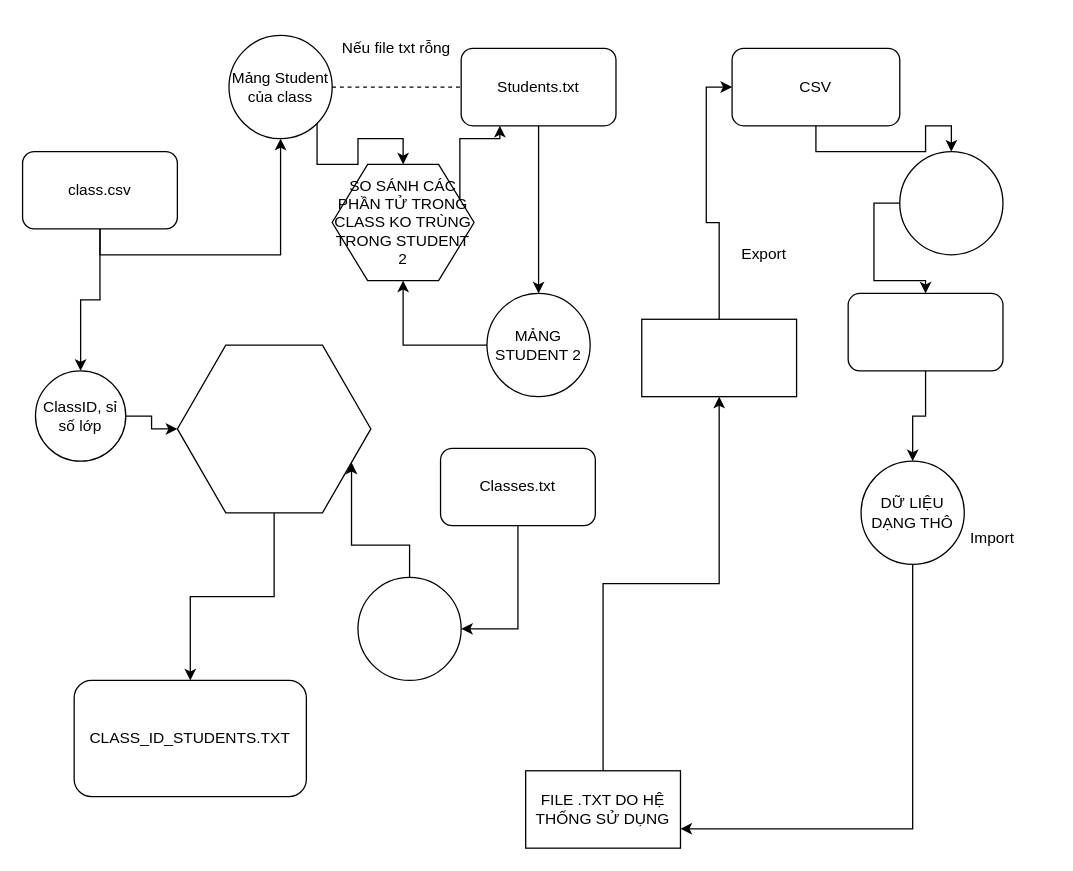
This 1073x871 diagram has some shape labels left out. Here are the shapes that lost their labels. From the top down, the box of each, then its label:
(898, 150, 1003, 255): DỮ LIỆU CHUẨN ĐÃ XỬ LÍ
(847, 292, 1003, 371): CODE CỦA MÌNH
(640, 318, 797, 397): HỆ THỐNG
(176, 344, 371, 513): ĐỐI CHIẾU CLASS ID VỚI MẢNG CLASS ID TỪ FILE TXT
(357, 576, 461, 680): Mảng ID
